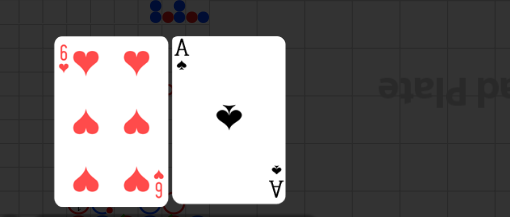6H: (152, 168, 164, 200)
AS: (174, 38, 191, 73)
